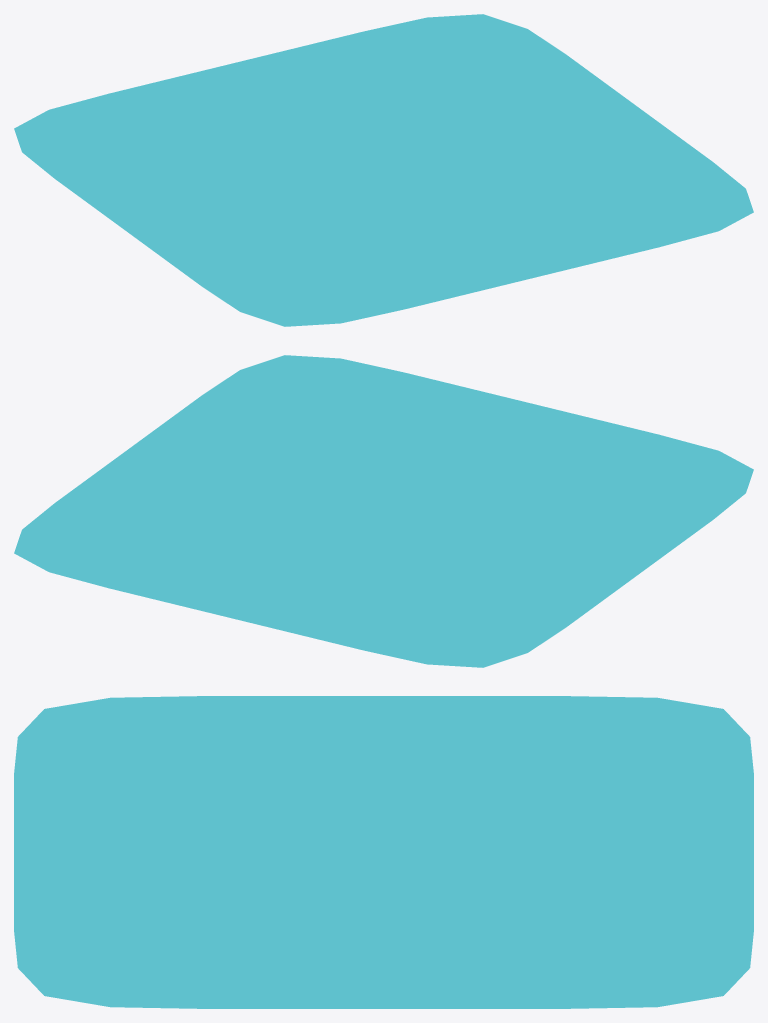
The model's file is Water.fbx.
3 views of the same model, one above another, from view 1: azimuth 30°, elevation 25°; view 2: azimuth 150°, elevation 25°; view 3: azimuth 270°, elevation 25° (orthographic). The views are drawn at different scales.
Parts seen in each view (by area): view 1: Plane; view 2: Plane; view 3: Plane.
Boxes of the visible parts, x1,y1,x2,y2 form: Plane: (14, 14, 753, 326); Plane: (14, 355, 753, 667); Plane: (14, 696, 753, 1008).
Size of the model in its own units: 1589 by 0 by 1589.
